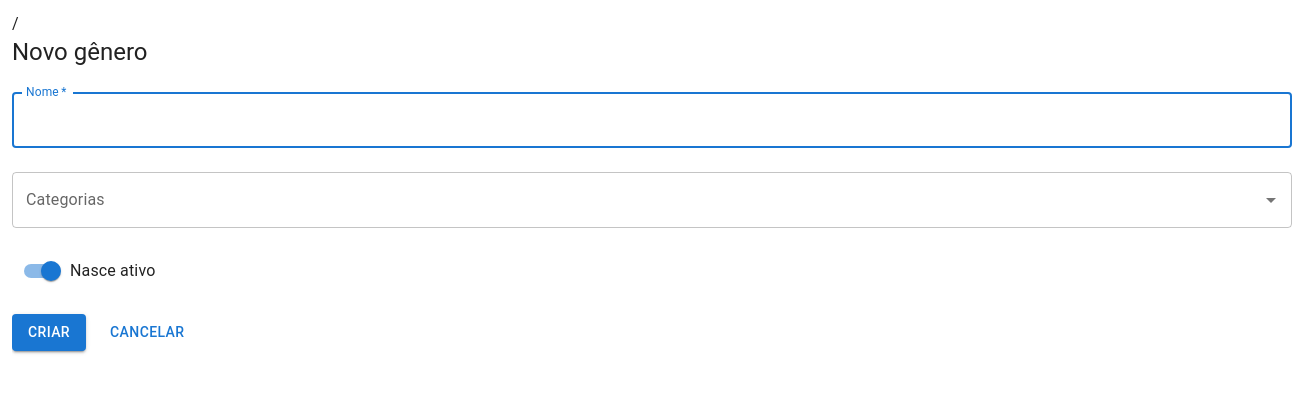
GenreCreate › givenNomeEmBranco_whenTentaCriar_thenNaoChamaOPost
Click the button "Criar": (49,332) [12, 314, 86, 350]
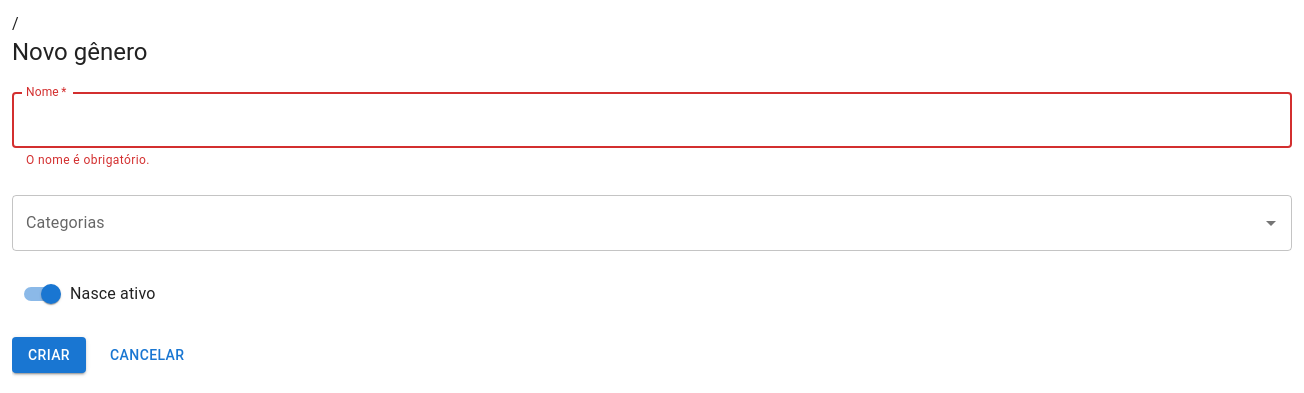
Now the text "O nome é obrigatório." is shown, box [26, 153, 150, 167]
